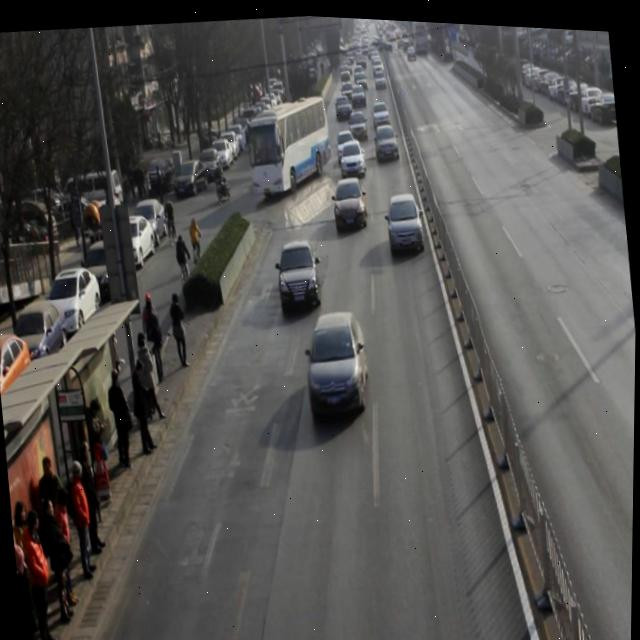car: (300, 302, 375, 421), (274, 234, 324, 312), (384, 187, 427, 251), (331, 171, 370, 230), (338, 134, 368, 175), (372, 119, 400, 160), (334, 125, 361, 164), (347, 105, 369, 140)
van: (241, 87, 337, 199)
